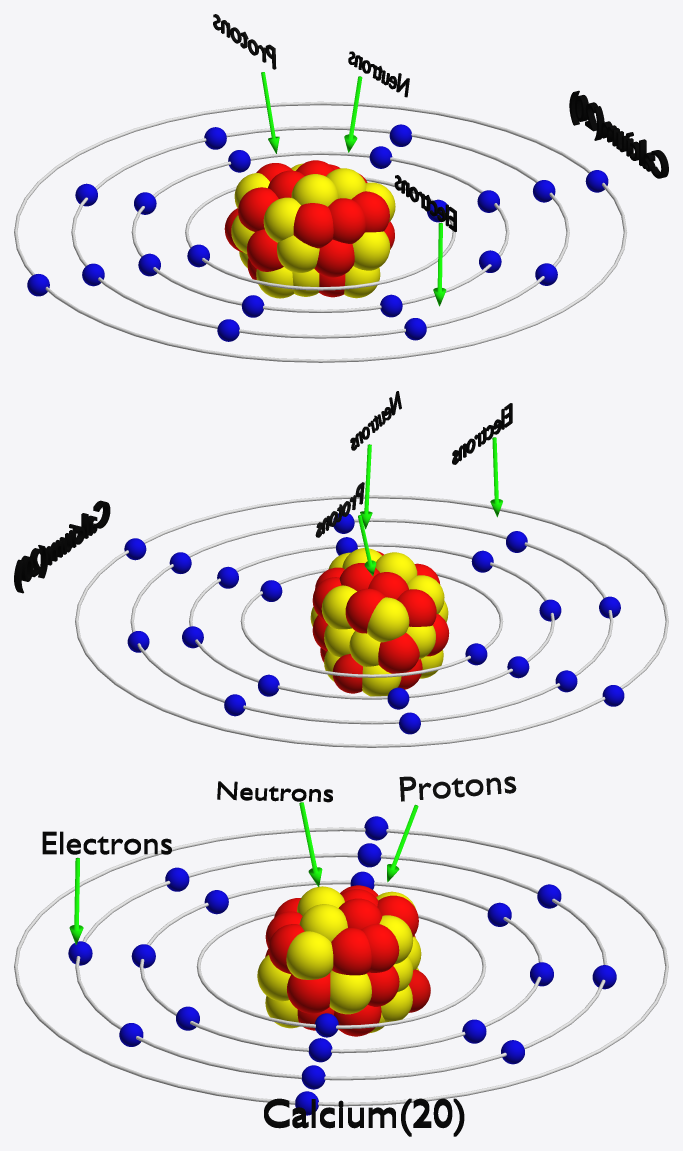
Rendered from Calcium Atomic Model.gltf.
3 renders of one model, top to bottom at view 1: azimuth 30°, elevation 25°; view 2: azimuth 150°, elevation 25°; view 3: azimuth 270°, elevation 25°, orthographic. The views are drawn at different scales.
Visible parts, largest first — view 1: Sphere.038, Torus.006, Torus.005, Torus.004, Text.003, Torus.003, Text, Text.001, Text.002; view 2: Sphere.038, Torus.006, Torus.005, Torus.004, Text.003, Torus.003, Text, Text.002, Text.001; view 3: Sphere.038, Torus.006, Torus.005, Torus.004, Text.003, Torus.003, Text, Text.001, Text.002.
Part boxes in pixels (x1=…): Sphere.038: x1=224, y1=160, x2=395, y2=298; Torus.006: x1=14, y1=101, x2=627, y2=362; Torus.005: x1=71, y1=126, x2=569, y2=338; Torus.004: x1=131, y1=151, x2=509, y2=312; Text.003: x1=569, y1=90, x2=668, y2=178; Torus.003: x1=185, y1=177, x2=455, y2=290; Text: x1=394, y1=175, x2=456, y2=231; Text.001: x1=213, y1=14, x2=276, y2=69; Text.002: x1=348, y1=51, x2=409, y2=97; Sphere.038: x1=310, y1=548, x2=449, y2=696; Torus.006: x1=75, y1=495, x2=668, y2=747; Torus.005: x1=130, y1=518, x2=613, y2=724; Torus.004: x1=189, y1=543, x2=554, y2=699; Text.003: x1=14, y1=500, x2=110, y2=593; Torus.003: x1=240, y1=568, x2=503, y2=677; Text: x1=452, y1=403, x2=512, y2=464; Text.002: x1=350, y1=391, x2=401, y2=450; Text.001: x1=315, y1=482, x2=364, y2=537; Sphere.038: x1=257, y1=885, x2=430, y2=1036; Torus.006: x1=14, y1=827, x2=668, y2=1106; Torus.005: x1=75, y1=853, x2=607, y2=1080; Torus.004: x1=139, y1=880, x2=542, y2=1053; Text.003: x1=264, y1=1098, x2=464, y2=1136; Torus.003: x1=196, y1=911, x2=486, y2=1028; Text: x1=42, y1=831, x2=171, y2=854; Text.001: x1=399, y1=776, x2=516, y2=801; Text.002: x1=217, y1=781, x2=332, y2=802.
Size of the model in its own units: 9.73 by 3.88 by 8.8.
